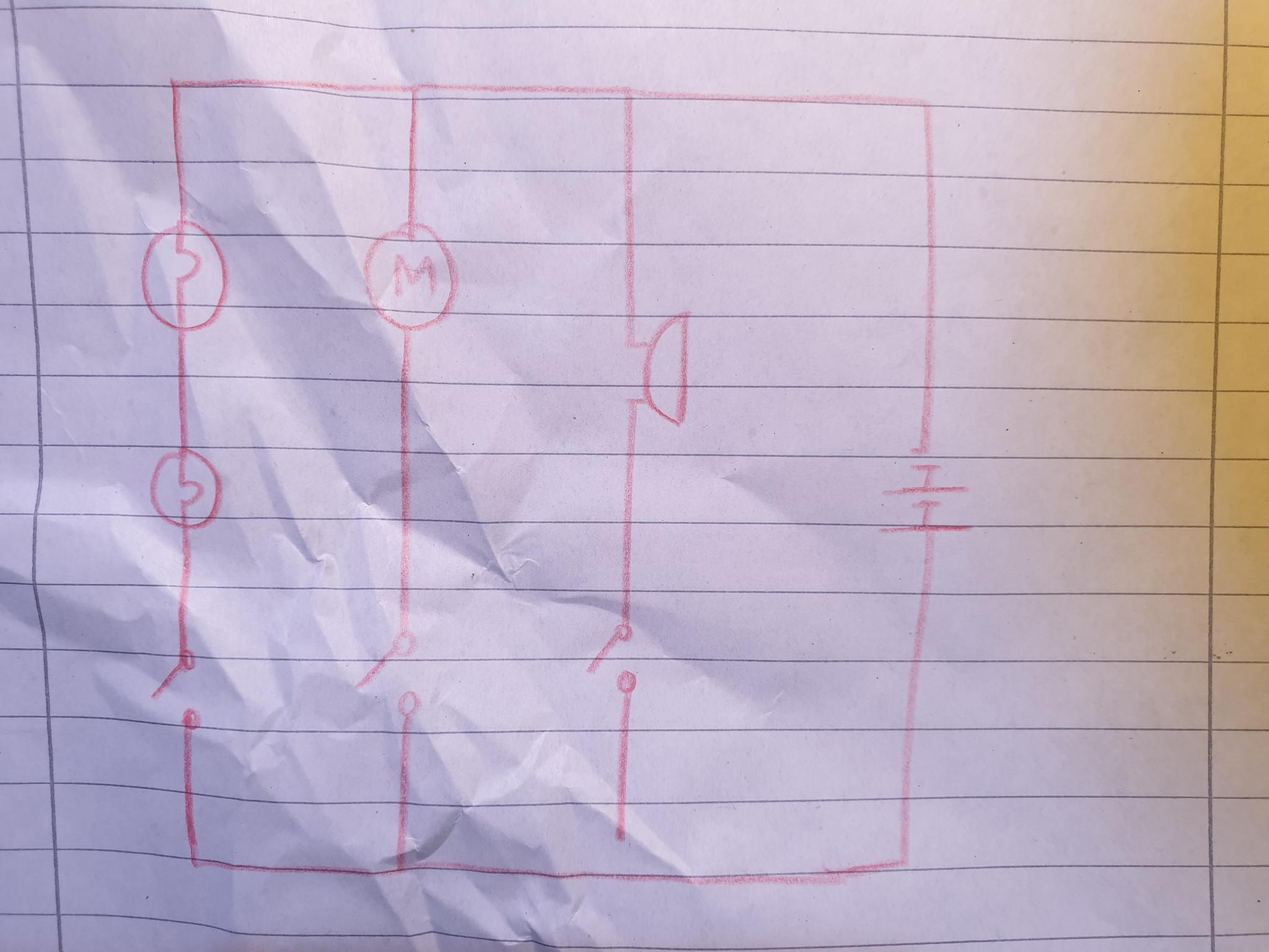junction: (610, 834, 632, 884), (613, 79, 640, 108), (181, 847, 208, 873), (892, 848, 919, 873), (402, 80, 427, 105), (393, 855, 414, 879), (915, 94, 938, 115), (167, 76, 182, 92)
lamp: (138, 216, 231, 333), (146, 447, 227, 530)
motor: (364, 216, 457, 338)
speaker: (621, 304, 697, 427)
switch: (352, 631, 421, 719), (148, 649, 204, 733), (584, 621, 640, 694)
voltage.battery: (875, 444, 974, 537)
